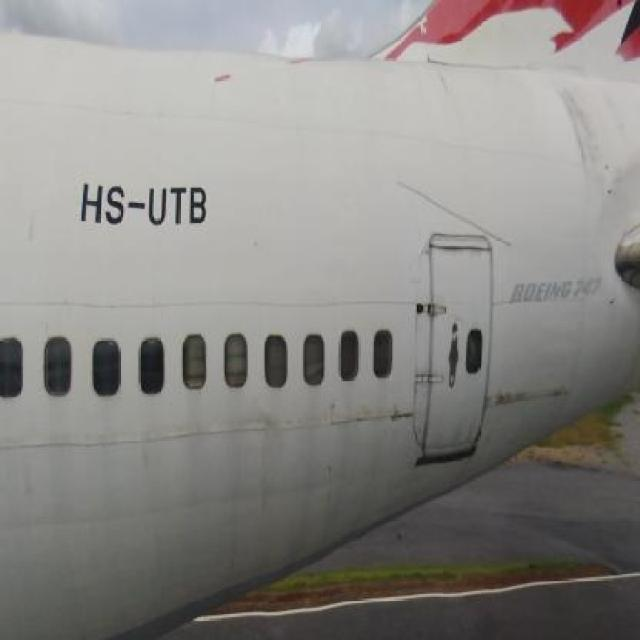Rust: (552, 81, 611, 181), (488, 380, 568, 415), (430, 236, 492, 272), (440, 408, 485, 452)
Scartch: (252, 404, 283, 513), (316, 394, 361, 438), (388, 400, 415, 438)
